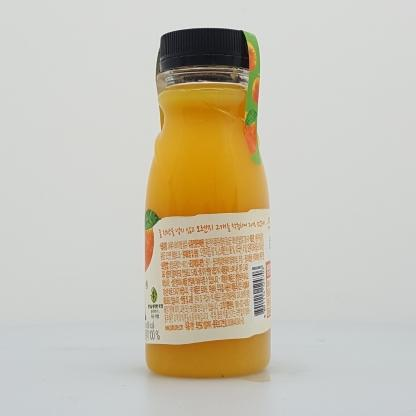-----------------190ML: (145, 28, 271, 377)
